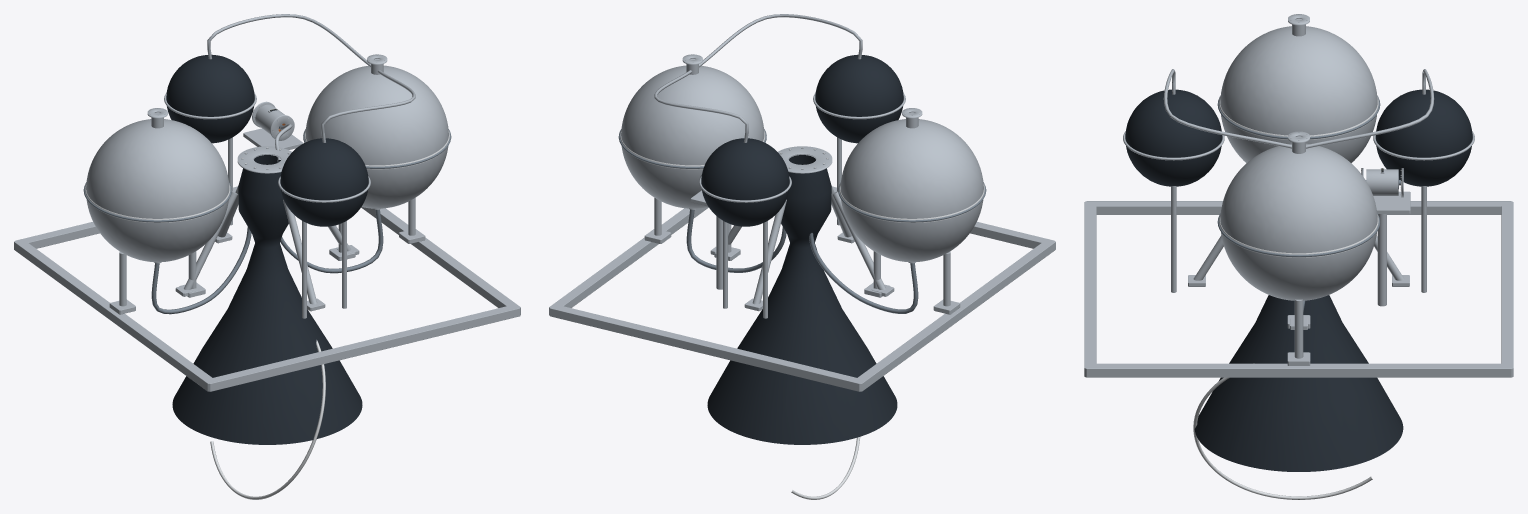
File: mariner-propulsion.glb
3 views of the same model, side by side, from view 1: azimuth 30°, elevation 25°; view 2: azimuth 150°, elevation 25°; view 3: azimuth 270°, elevation 25° (orthographic). The views are drawn at different scales.
Visible parts, largest first — view 1: ENGINE_BELL_SECTION_Anodized_aluminium, ENGINE_FRAME_Machined_aluminium, TANK_0_FRONT_SHELL_Machined_aluminium, NITROGEN_PRESSURANT_Anodized_aluminium, TANK_1_FRONT_SHELL_Machined_aluminium, ENGINE_FIXED_SECTION_Anodized_aluminium, TANK_0_FIXED_SHELL_Machined_aluminium, FEED_LINES_Steel_fixings, FEED_LINES_Machined_aluminium, TANK_1_FIXED_SHELL_Machined_aluminium, ENGINE_FIXED_SECTION_Machined_edge, BORED_FLANGE_2_Machined_aluminium (+1 smaller); view 2: ENGINE_FIXED_SECTION_Anodized_aluminium, ENGINE_FRAME_Machined_aluminium, TANK_0_FIXED_SHELL_Machined_aluminium, NITROGEN_PRESSURANT_Anodized_aluminium, TANK_1_FIXED_SHELL_Machined_aluminium, TANK_0_FRONT_SHELL_Machined_aluminium, FEED_LINES_Steel_fixings, TANK_1_FRONT_SHELL_Machined_aluminium, FEED_LINES_Machined_aluminium, BORED_FLANGE_2_Machined_aluminium, ENGINE_BELL_SECTION_Anodized_aluminium, NITROGEN_PRESSURANT_Machined_aluminium; view 3: ENGINE_FRAME_Machined_aluminium, ENGINE_FIXED_SECTION_Anodized_aluminium, NITROGEN_PRESSURANT_Anodized_aluminium, TANK_1_FIXED_SHELL_Machined_aluminium, TANK_1_FRONT_SHELL_Machined_aluminium, TANK_0_FIXED_SHELL_Machined_aluminium, TANK_0_FRONT_SHELL_Machined_aluminium, ENGINE_BELL_SECTION_Anodized_aluminium, FEED_LINES_Machined_aluminium, ENGINE_FIXED_SECTION_Machined_edge, NITROGEN_PRESSURANT_Machined_aluminium, VALVE_BODY_Machined_aluminium (+2 smaller).
Part boxes in pixels (box(x1,y1,x2,y2)): ENGINE_BELL_SECTION_Anodized_aluminium: box(209, 172, 362, 444); ENGINE_FRAME_Machined_aluminium: box(14, 128, 520, 391); TANK_0_FRONT_SHELL_Machined_aluminium: box(95, 123, 229, 262); NITROGEN_PRESSURANT_Anodized_aluminium: box(166, 54, 368, 226); TANK_1_FRONT_SHELL_Machined_aluminium: box(316, 70, 448, 208); ENGINE_FIXED_SECTION_Anodized_aluminium: box(172, 155, 360, 436); TANK_0_FIXED_SHELL_Machined_aluminium: box(86, 119, 193, 243); FEED_LINES_Steel_fixings: box(151, 160, 383, 314); FEED_LINES_Machined_aluminium: box(207, 14, 415, 160); TANK_1_FIXED_SHELL_Machined_aluminium: box(305, 65, 415, 141); ENGINE_FIXED_SECTION_Machined_edge: box(210, 340, 325, 499); BORED_FLANGE_2_Machined_aluminium: box(237, 146, 291, 173); ENGINE_FIXED_SECTION_Anodized_aluminium: box(707, 158, 896, 444); ENGINE_FRAME_Machined_aluminium: box(549, 137, 1055, 391); TANK_0_FIXED_SHELL_Machined_aluminium: box(840, 123, 974, 262); NITROGEN_PRESSURANT_Anodized_aluminium: box(701, 54, 903, 226); TANK_1_FIXED_SHELL_Machined_aluminium: box(621, 70, 753, 208); TANK_0_FRONT_SHELL_Machined_aluminium: box(876, 119, 983, 243); FEED_LINES_Steel_fixings: box(686, 209, 918, 313); TANK_1_FRONT_SHELL_Machined_aluminium: box(654, 65, 764, 141); FEED_LINES_Machined_aluminium: box(654, 14, 862, 142); BORED_FLANGE_2_Machined_aluminium: box(778, 146, 832, 173); ENGINE_BELL_SECTION_Anodized_aluminium: box(789, 155, 897, 409); NITROGEN_PRESSURANT_Machined_aluminium: box(699, 93, 905, 202); ENGINE_FRAME_Machined_aluminium: box(1084, 186, 1513, 377); ENGINE_FIXED_SECTION_Anodized_aluminium: box(1259, 295, 1403, 471); NITROGEN_PRESSURANT_Anodized_aluminium: box(1125, 89, 1472, 186); TANK_1_FIXED_SHELL_Machined_aluminium: box(1299, 143, 1377, 300); TANK_1_FRONT_SHELL_Machined_aluminium: box(1220, 143, 1298, 300); TANK_0_FIXED_SHELL_Machined_aluminium: box(1299, 26, 1377, 162); TANK_0_FRONT_SHELL_Machined_aluminium: box(1220, 26, 1298, 162); ENGINE_BELL_SECTION_Anodized_aluminium: box(1194, 295, 1288, 468); FEED_LINES_Machined_aluminium: box(1163, 69, 1434, 148); ENGINE_FIXED_SECTION_Machined_edge: box(1193, 377, 1372, 499); NITROGEN_PRESSURANT_Machined_aluminium: box(1123, 131, 1474, 160); VALVE_BODY_Machined_aluminium: box(1366, 169, 1398, 192).
Bounding box in the file's own units: 0.951 × 1.08 × 0.9264.
